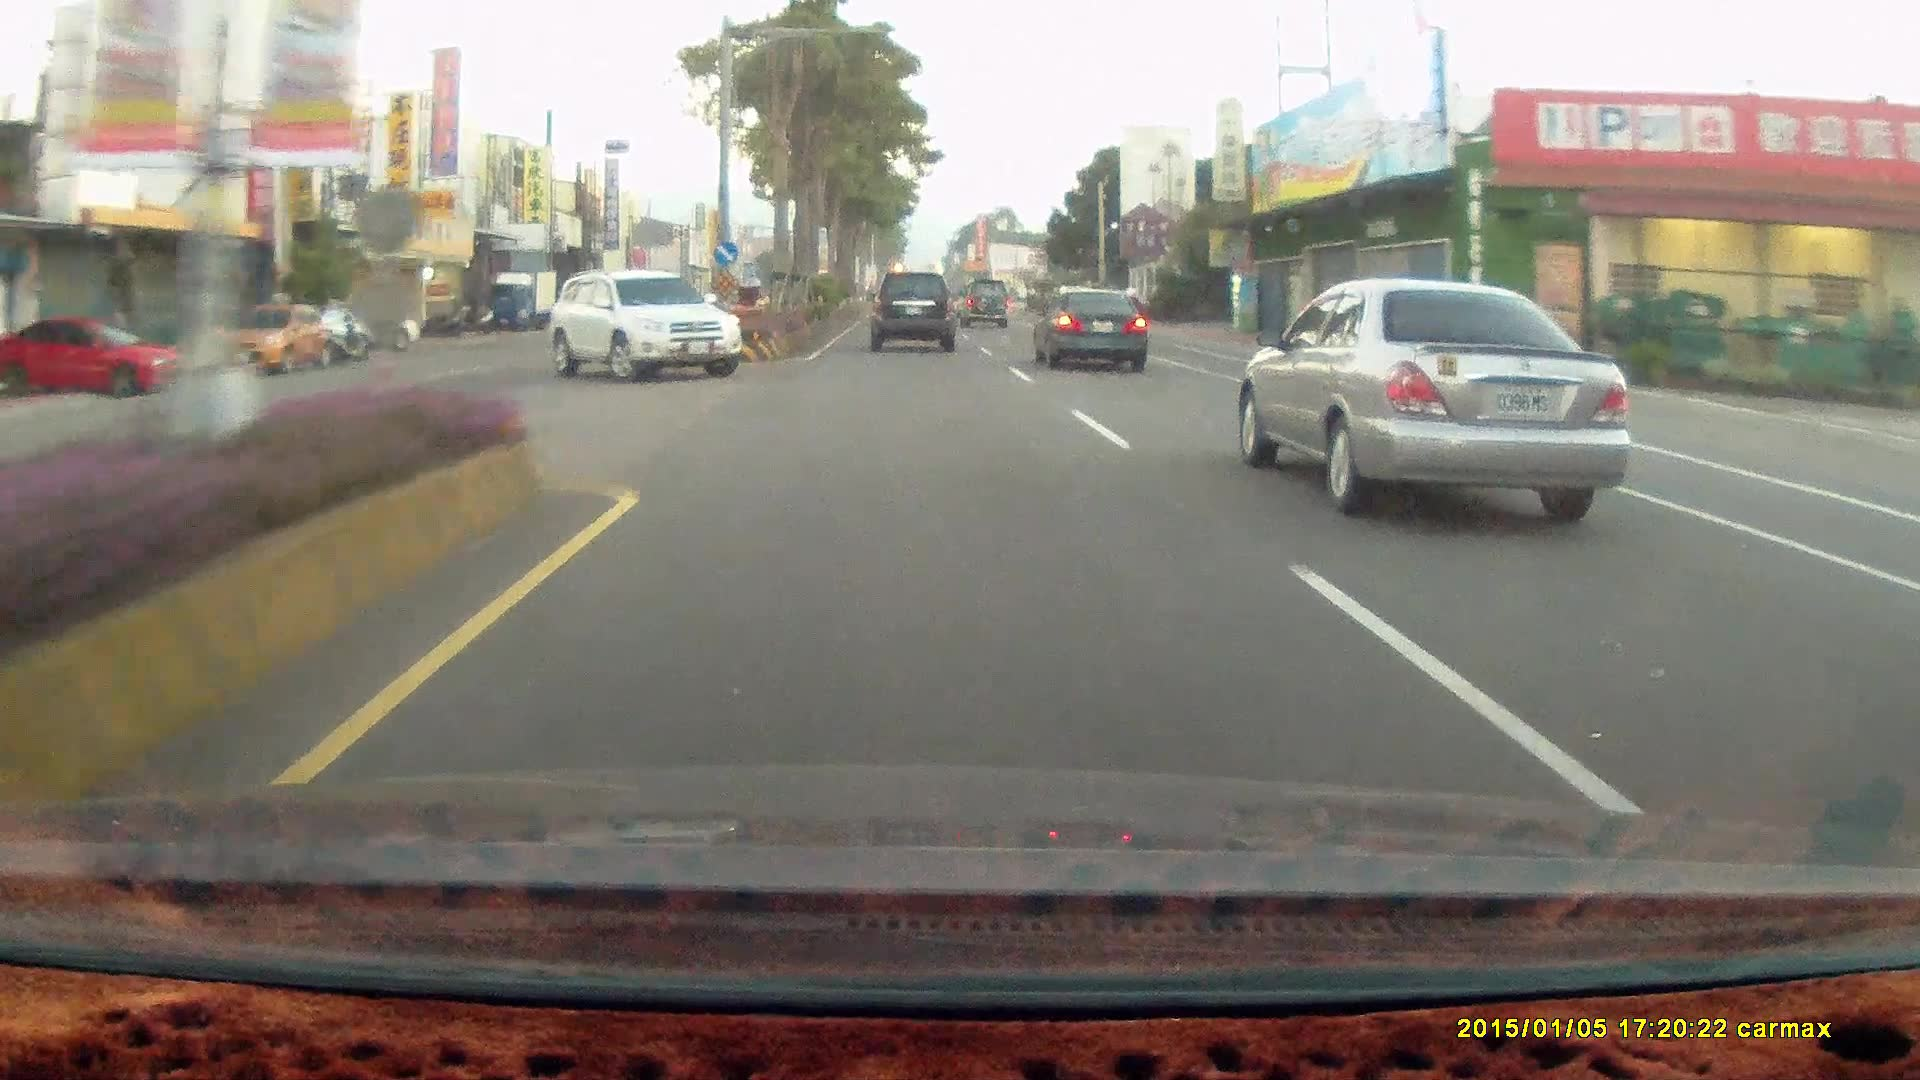vehicle: (1226, 276, 1629, 529), (541, 270, 745, 382), (542, 270, 742, 382), (3, 318, 190, 404), (0, 313, 187, 394), (1031, 284, 1149, 371), (1033, 289, 1151, 375), (215, 302, 334, 378), (866, 269, 963, 357), (868, 270, 953, 348), (307, 299, 419, 351), (956, 280, 1013, 332), (957, 278, 1011, 326)
